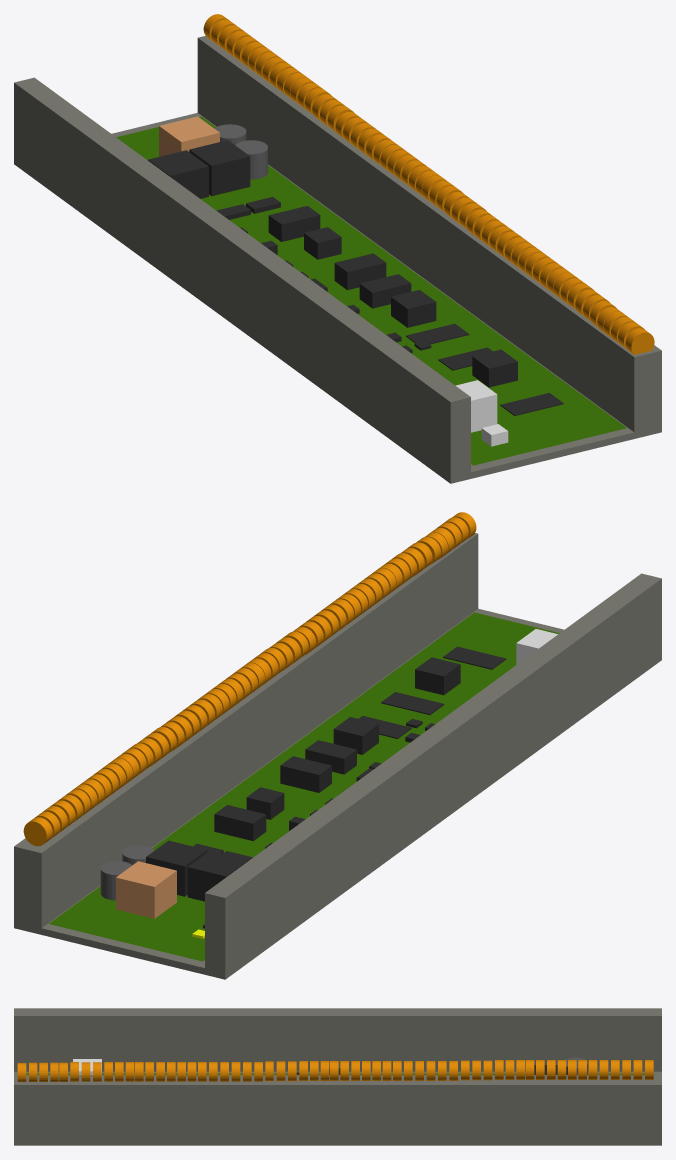
File: A3E3 (Card).fbx
The picture shows the model from 3 angles, top to bottom: view 1: azimuth 30°, elevation 25°; view 2: azimuth 150°, elevation 25°; view 3: azimuth 270°, elevation 25°; orthographic projection. The views are drawn at different scales.
Parts seen in each view (by area): view 1: Cube, Plane, Cube.037, Cube.036, Cube.035, Cube.029, Cube.013, Cube.016, Cube.028, Cube.002, Cube.027, Cube.008 (+3 smaller); view 2: Cube, Plane, Cube.036, Cube.035, Cube.037, Cube.013, Cube.029, Cube.016, Cube.028, Cube.027, Cube.008, Cube.006 (+3 smaller); view 3: Cube, Plane.
Part boxes in pixels (box(x1,y1,x2,y2)): Cube: box(14, 36, 661, 483); Plane: box(116, 116, 626, 465); Cube.037: box(189, 140, 250, 196); Cube.036: box(159, 116, 219, 156); Cube.035: box(148, 150, 208, 198); Cube.029: box(268, 206, 320, 241); Cube.013: box(334, 253, 386, 290); Cube.016: box(472, 349, 517, 387); Cube.028: box(391, 290, 436, 327); Cube.002: box(455, 380, 497, 432); Cube.027: box(359, 274, 411, 308); Cube.008: box(304, 227, 341, 259); Cube: box(14, 533, 661, 979); Plane: box(49, 612, 559, 961); Cube.036: box(116, 861, 176, 918); Cube.035: box(187, 850, 248, 901); Cube.037: box(146, 840, 207, 896); Cube.013: box(280, 756, 331, 792); Cube.029: box(214, 805, 266, 841); Cube.016: box(415, 657, 460, 695); Cube.028: box(333, 717, 378, 754); Cube.027: box(305, 740, 356, 774); Cube.008: box(246, 787, 284, 819); Cube.006: box(443, 646, 506, 669); Cube: box(14, 1008, 661, 1145); Plane: box(26, 1073, 653, 1074).
Bounding box in the file's own units: 183 × 87.89 × 655.
